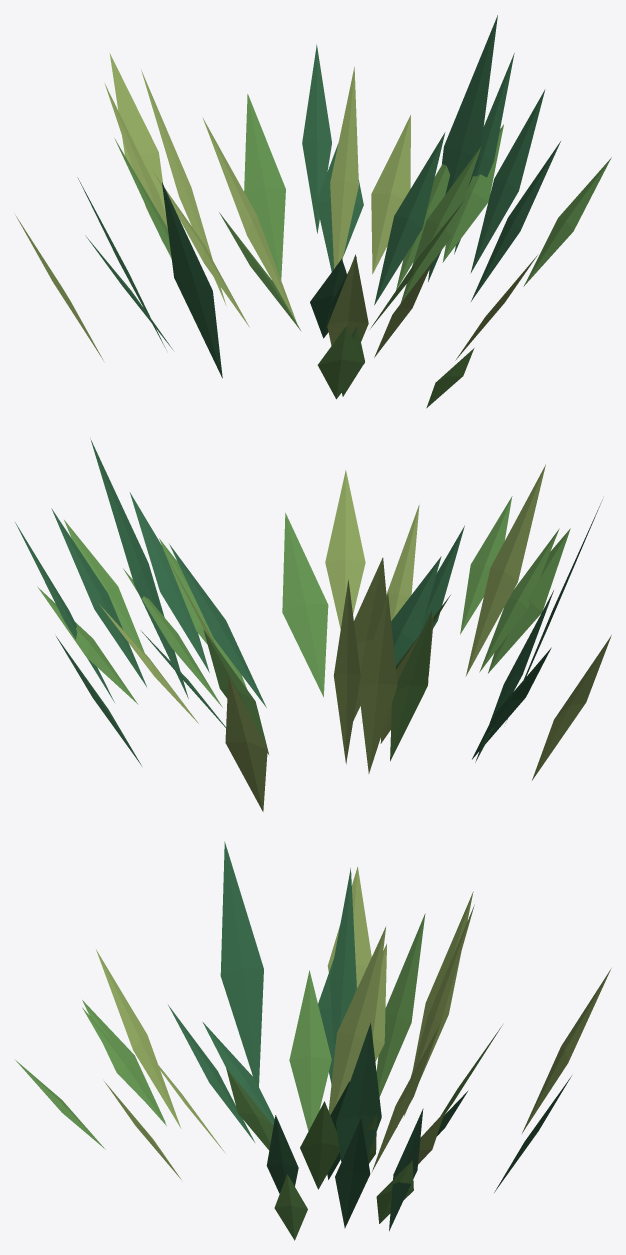
File: grass_clump_tall.glb
The picture shows the model from 3 angles, top to bottom: view 1: azimuth 30°, elevation 25°; view 2: azimuth 150°, elevation 25°; view 3: azimuth 270°, elevation 25°; orthographic projection. The views are drawn at different scales.
Visible parts, largest first — view 1: grass_clump_tall; view 2: grass_clump_tall; view 3: grass_clump_tall.
Boxes of the visible parts, x1,y1,x2,y2 form: grass_clump_tall: [15, 15, 611, 408]; grass_clump_tall: [15, 438, 611, 811]; grass_clump_tall: [14, 841, 611, 1240].
Size of the model in its own units: 2.31 by 0.9427 by 2.27.
